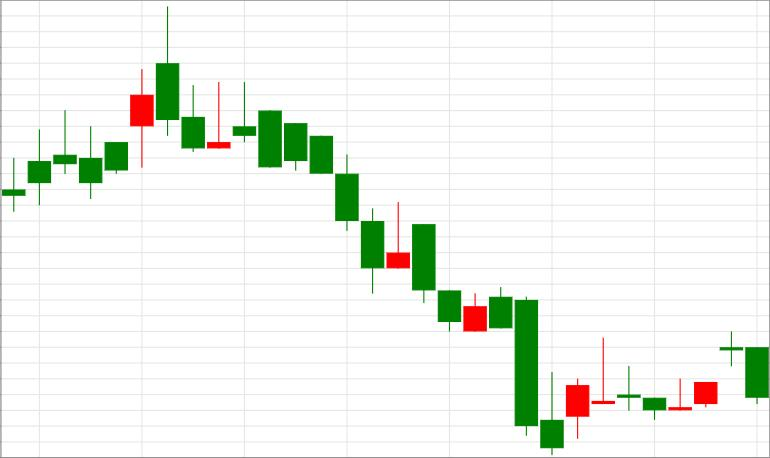inverse_hammer_rise: (233, 83, 564, 456)
